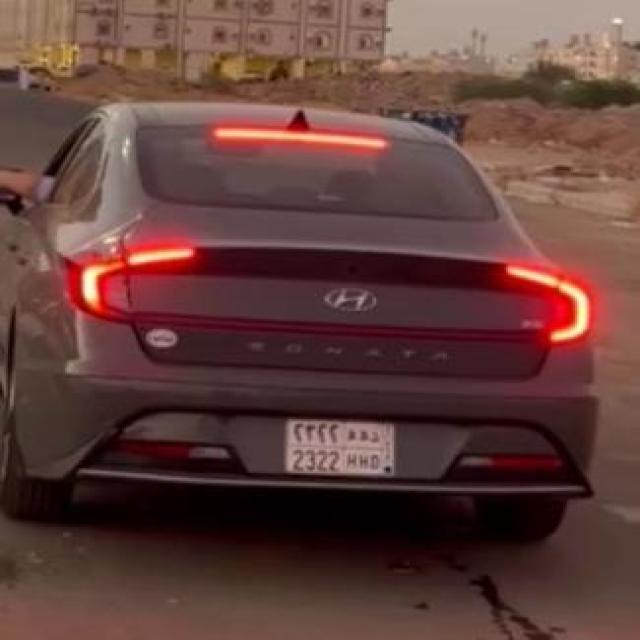Car-plate: (280, 404, 426, 489)
